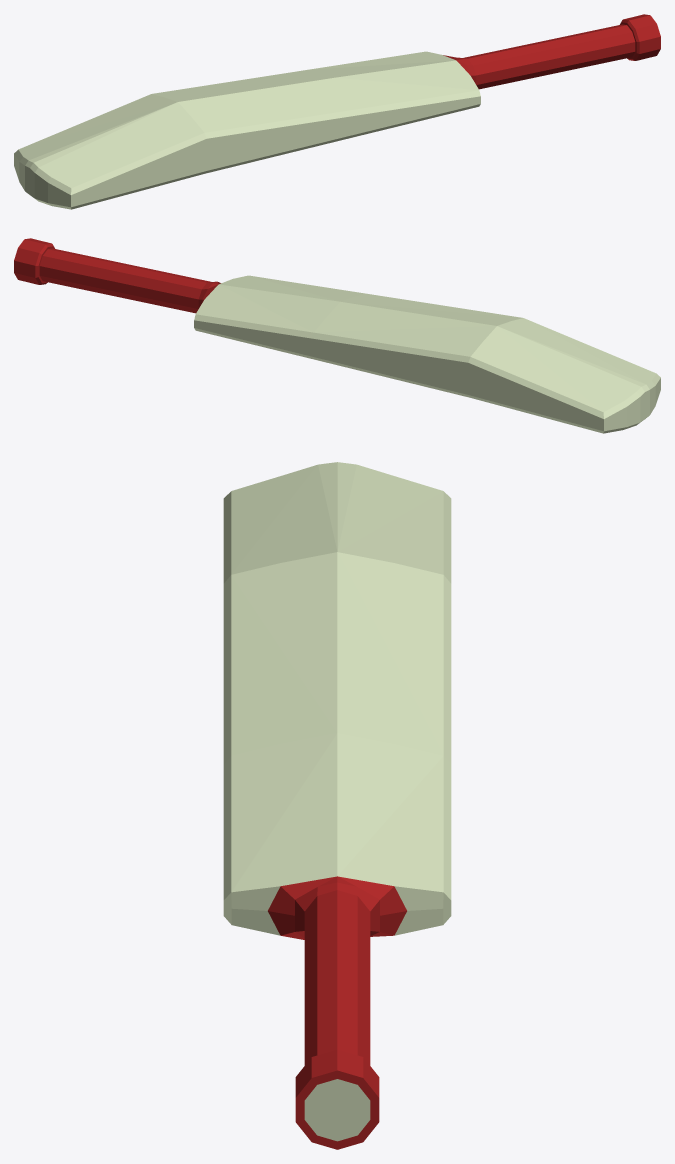
The model's file is bat.fbx.
3 views of the same model, one above another, from view 1: azimuth 30°, elevation 25°; view 2: azimuth 150°, elevation 25°; view 3: azimuth 270°, elevation 25° (orthographic). The views are drawn at different scales.
Visible parts, largest first — view 1: BAT; view 2: BAT; view 3: BAT.
Part boxes in pixels (<box>): BAT: <box>14,14,660,209</box>; BAT: <box>14,238,660,433</box>; BAT: <box>223,462,451,1149</box>.
Size of the model in its own units: 20.61 by 2.17 by 3.28.
